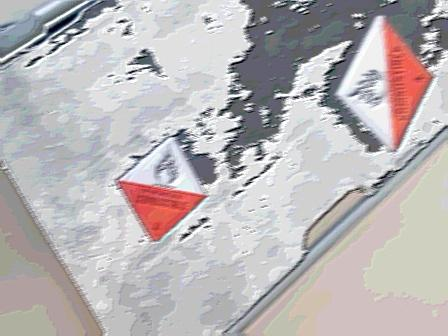spontaneously-combustible: (333, 17, 433, 155), (116, 137, 208, 246)
